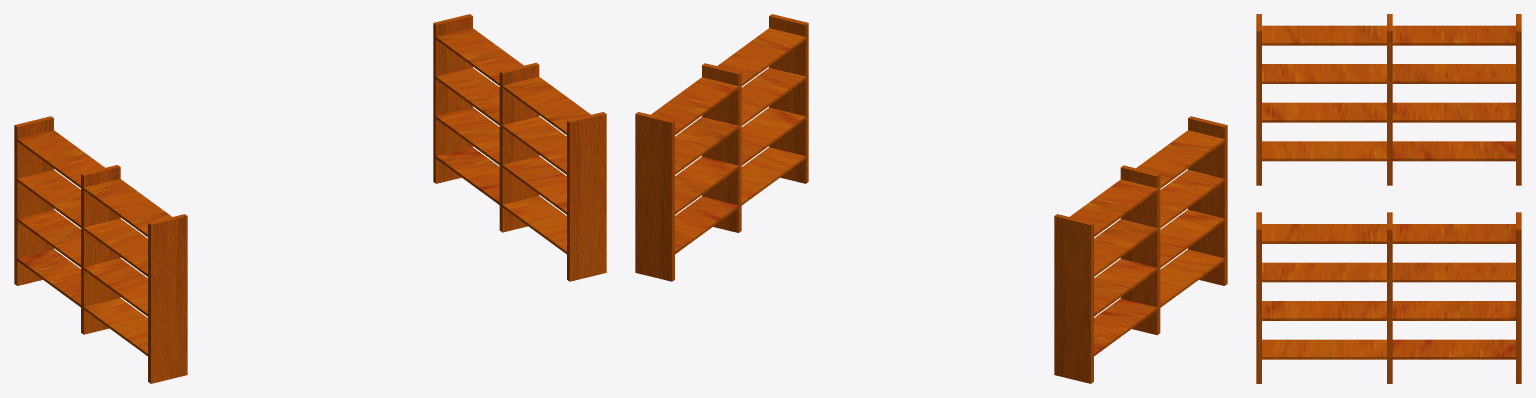
The model's file is bookcase.obj.
3 renders of one model, left to right at view 1: azimuth 30°, elevation 25°; view 2: azimuth 150°, elevation 25°; view 3: azimuth 270°, elevation 25°, orthographic. The views are drawn at different scales.
Bounding box in the file's own units: 18 × 6 × 9.35.
1 material, 1 textured.
